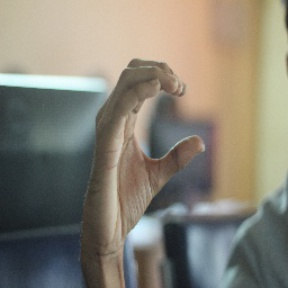C: (95, 52, 211, 187)
